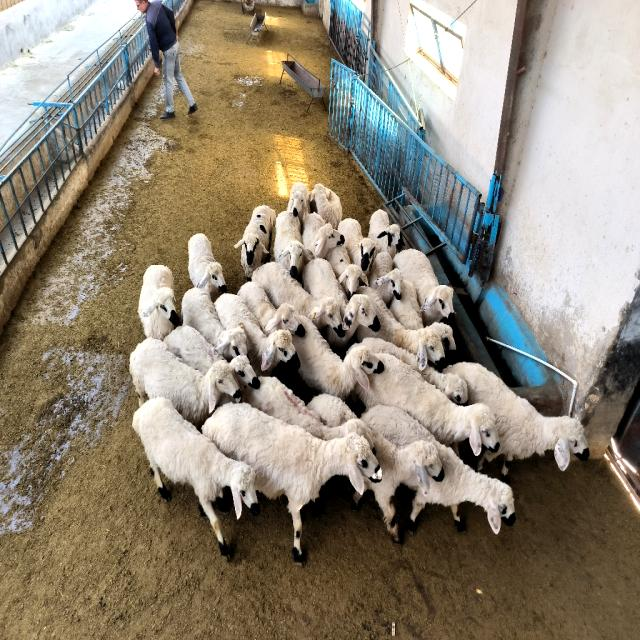sheep: (202, 403, 381, 562), (132, 398, 258, 556), (362, 405, 515, 532), (445, 362, 589, 476), (355, 353, 500, 455), (355, 428, 444, 541), (129, 338, 240, 428), (241, 377, 374, 448), (292, 315, 384, 399), (355, 287, 445, 369), (362, 338, 468, 404), (251, 262, 342, 336), (214, 295, 295, 376), (181, 290, 248, 361), (394, 248, 454, 324), (238, 282, 305, 336), (321, 293, 380, 353), (139, 265, 180, 339), (235, 205, 276, 279), (164, 325, 224, 372), (274, 210, 314, 278), (189, 233, 228, 295), (338, 218, 378, 275), (302, 212, 345, 258), (308, 393, 365, 427), (369, 252, 402, 305), (389, 278, 422, 329), (369, 210, 404, 258), (310, 183, 342, 228), (230, 355, 260, 389), (288, 182, 310, 225), (429, 322, 456, 350)
